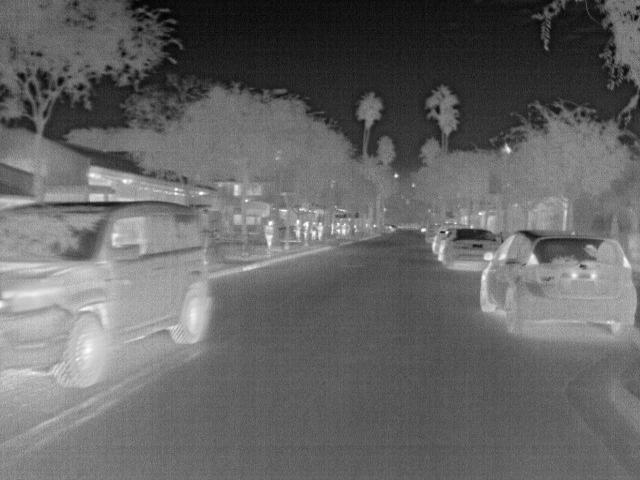car: (4, 199, 210, 392), (477, 228, 638, 336), (443, 227, 506, 269), (433, 223, 470, 255), (425, 221, 449, 243)
person: (264, 218, 279, 248), (292, 218, 302, 241), (309, 219, 317, 241), (316, 220, 324, 241), (301, 220, 309, 240), (340, 222, 347, 236), (335, 220, 341, 236)
